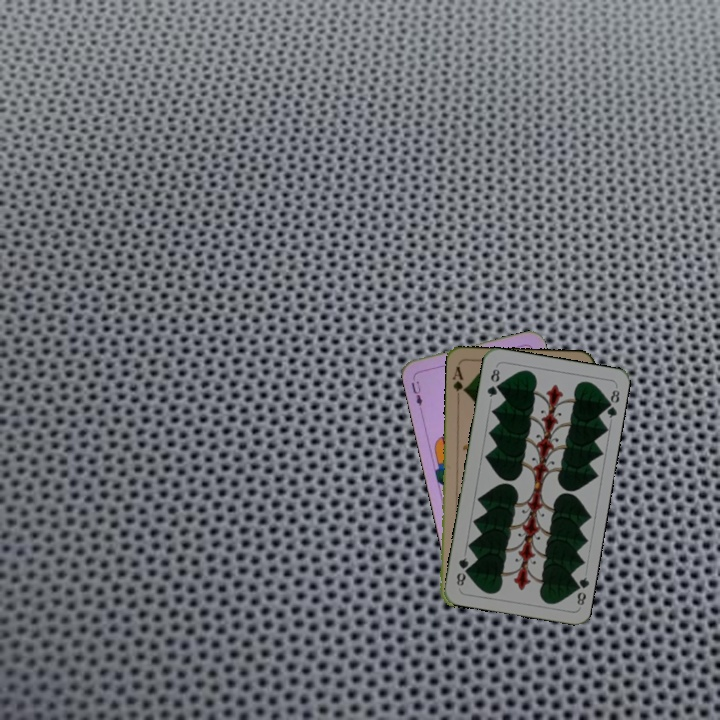EU: (407, 377, 425, 408)
G8: (569, 573, 591, 608), (483, 365, 502, 400)
GA: (449, 363, 468, 402)
